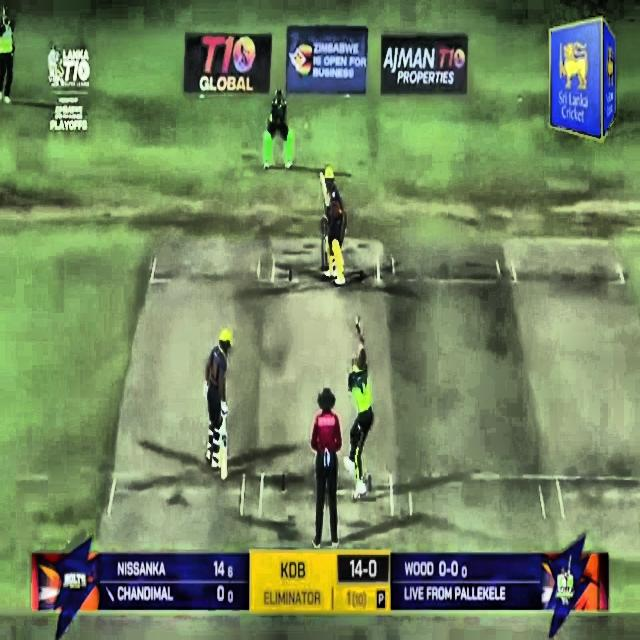Left-stump: (322, 222, 324, 269)
Middle-stump: (326, 250, 327, 269)
